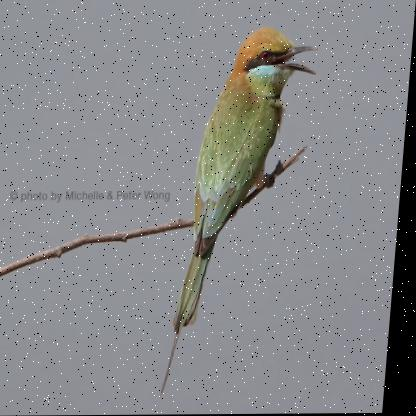Burung: (164, 27, 320, 394)
